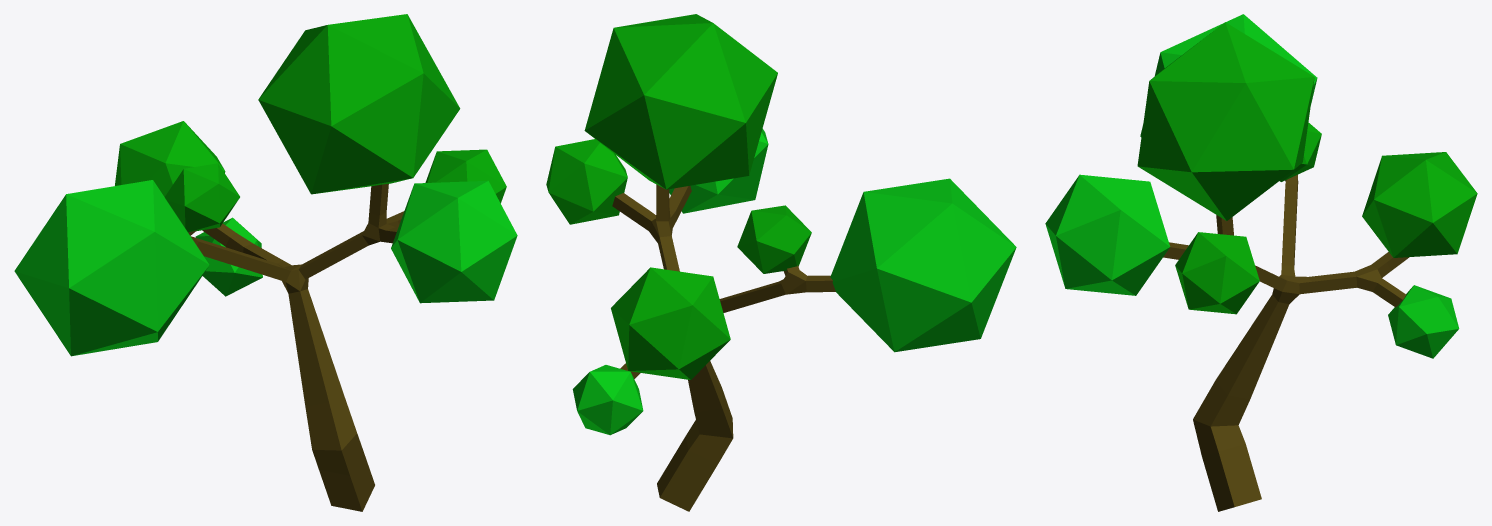
The model's file is tree_1.fbx.
3 renders of one model, left to right at view 1: azimuth 30°, elevation 25°; view 2: azimuth 150°, elevation 25°; view 3: azimuth 270°, elevation 25°, orthographic. The views are drawn at different scales.
Visible parts, largest first — view 1: tree 1; view 2: tree 1; view 3: tree 1.
Part boxes in pixels (x1=…): tree 1: x1=14, y1=14, x2=517, y2=511; tree 1: x1=546, y1=14, x2=1016, y2=511; tree 1: x1=1045, y1=14, x2=1477, y2=511.
Bounding box in the file's own units: 2059 × 2106 × 1736.
